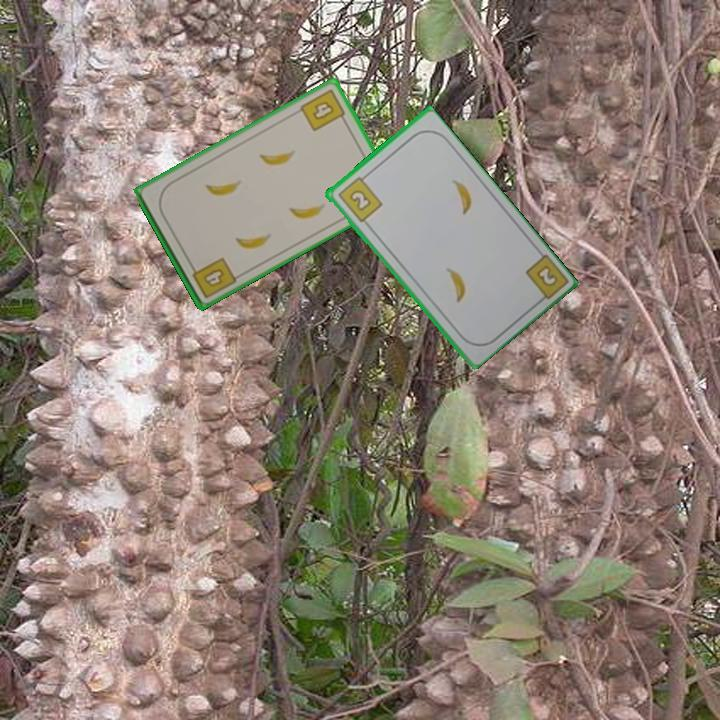2b: (334, 171, 385, 225), (533, 261, 561, 290)
4b: (296, 85, 350, 134), (187, 253, 239, 301)
